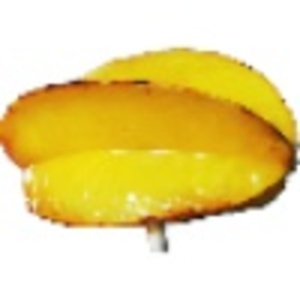carambola: (1, 44, 300, 248)
